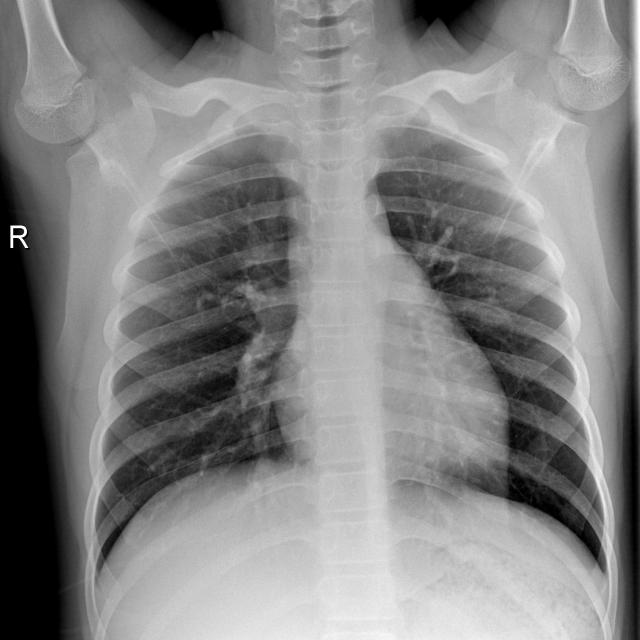no-pneumonia: (375, 129, 611, 569), (96, 136, 307, 568)
